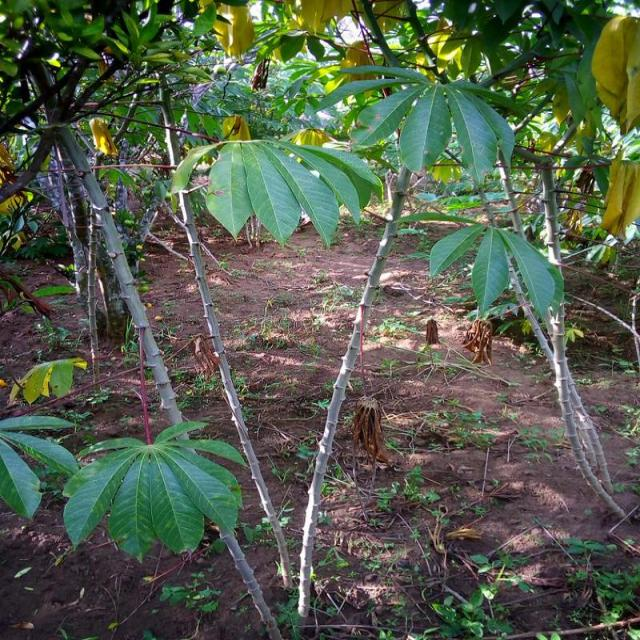cassava leaf: (62, 421, 244, 562), (171, 133, 382, 250)
